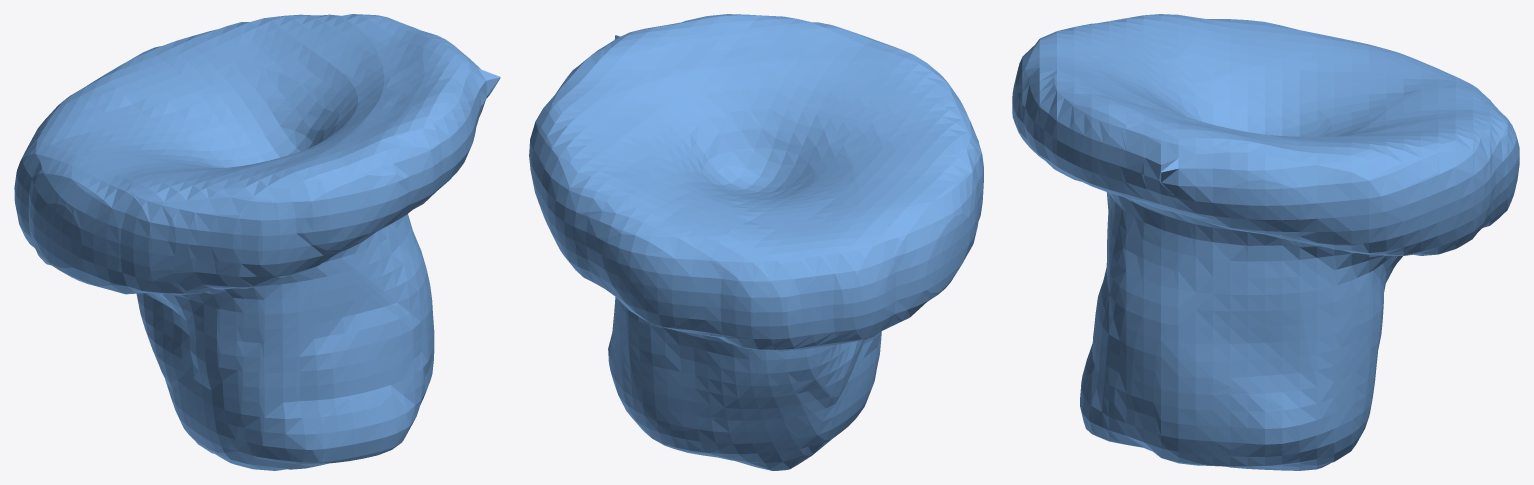
Rendered from water_0010.glb.
3 views of the same model, side by side, from view 1: azimuth 30°, elevation 25°; view 2: azimuth 150°, elevation 25°; view 3: azimuth 270°, elevation 25° (orthographic). The views are drawn at different scales.
Parts seen in each view (by area): view 1: Water_0010; view 2: Water_0010; view 3: Water_0010.
Part boxes in pixels (x1=…): Water_0010: x1=14, y1=14, x2=500, y2=470; Water_0010: x1=529, y1=14, x2=983, y2=470; Water_0010: x1=1012, y1=14, x2=1519, y2=470.
Size of the model in its own units: 1.66 by 1.5 by 1.71.
